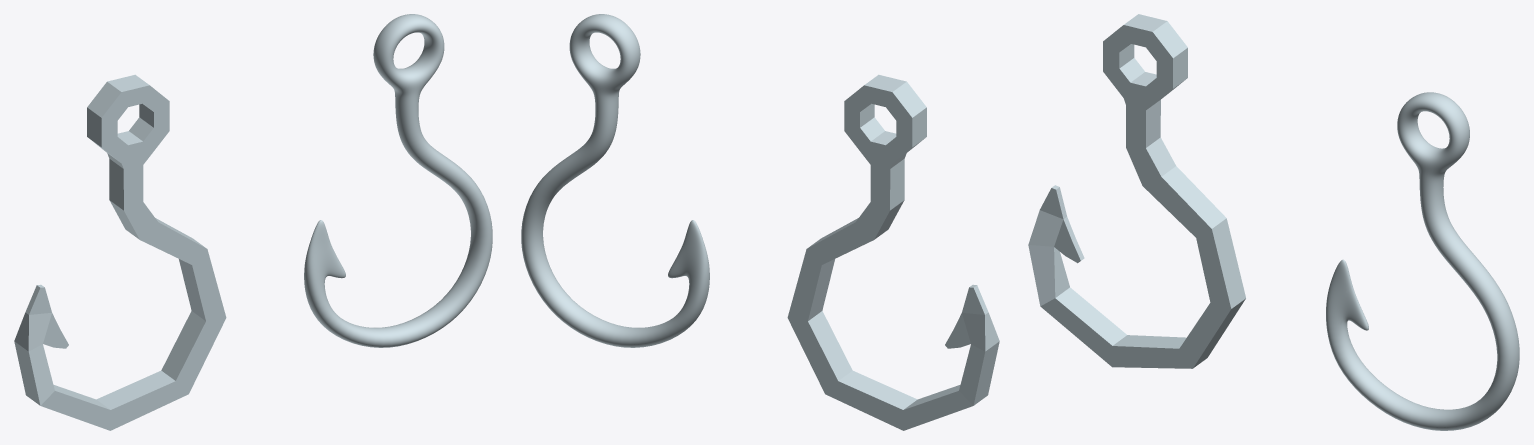
Rendered from uploads_files_1841675_Fish+hook.fbx.
3 views of the same model, side by side, from view 1: azimuth 30°, elevation 25°; view 2: azimuth 150°, elevation 25°; view 3: azimuth 330°, elevation 25° (orthographic). The views are drawn at different scales.
Parts seen in each view (by area): view 1: fish hook, fish hook subdivided; view 2: fish hook, fish hook subdivided; view 3: fish hook, fish hook subdivided.
Part boxes in pixels (x1,y1,x2,y2): fish hook: [14, 74, 226, 430]; fish hook subdivided: [304, 14, 492, 347]; fish hook: [787, 74, 999, 430]; fish hook subdivided: [521, 14, 709, 347]; fish hook: [1028, 14, 1245, 368]; fish hook subdivided: [1326, 92, 1519, 430].
Size of the model in its own units: 318 by 218 by 17.
